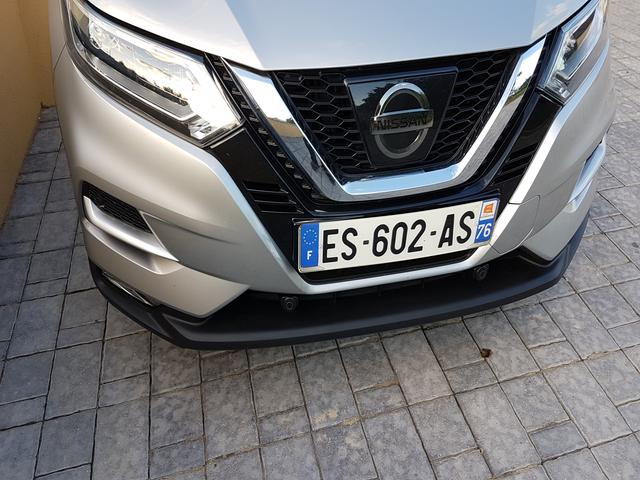Quashquai: (281, 185, 504, 281)
